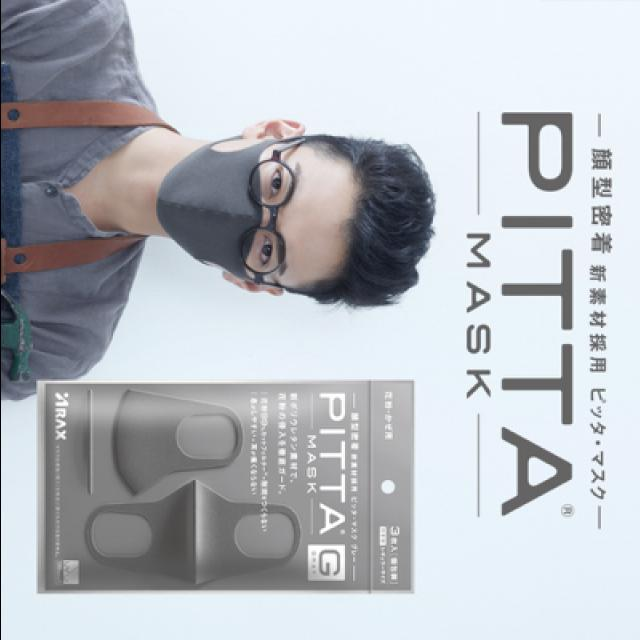with_mask: (157, 140, 306, 286)
